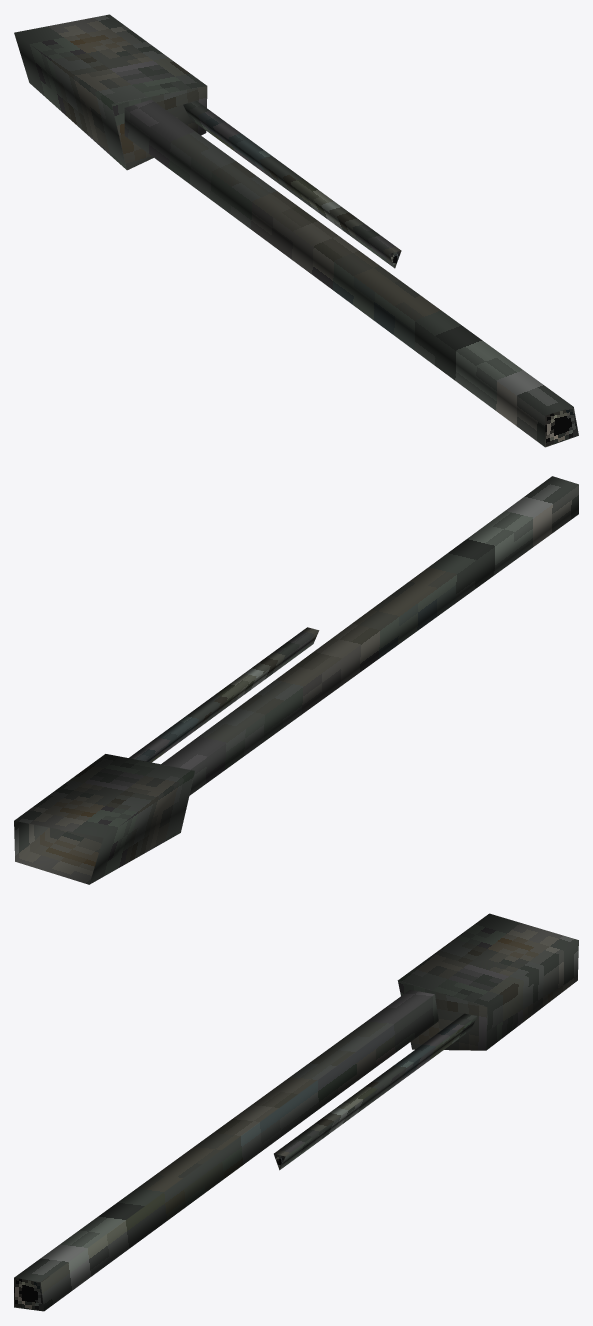
The model's file is bwing_weapon2r_s01_l2.fbx.
3 views of the same model, one above another, from view 1: azimuth 30°, elevation 25°; view 2: azimuth 150°, elevation 25°; view 3: azimuth 330°, elevation 25° (orthographic). The views are drawn at different scales.
Parts seen in each view (by area): view 1: mesh_node; view 2: mesh_node; view 3: mesh_node.
Part boxes in pixels (box(x1,y1,x2,y2)): mesh_node: box(14, 14, 578, 447); mesh_node: box(14, 476, 578, 884); mesh_node: box(14, 913, 578, 1311).
Size of the model in its own units: 0.2933 by 0.2049 by 2.76.
1 material, 1 textured.
